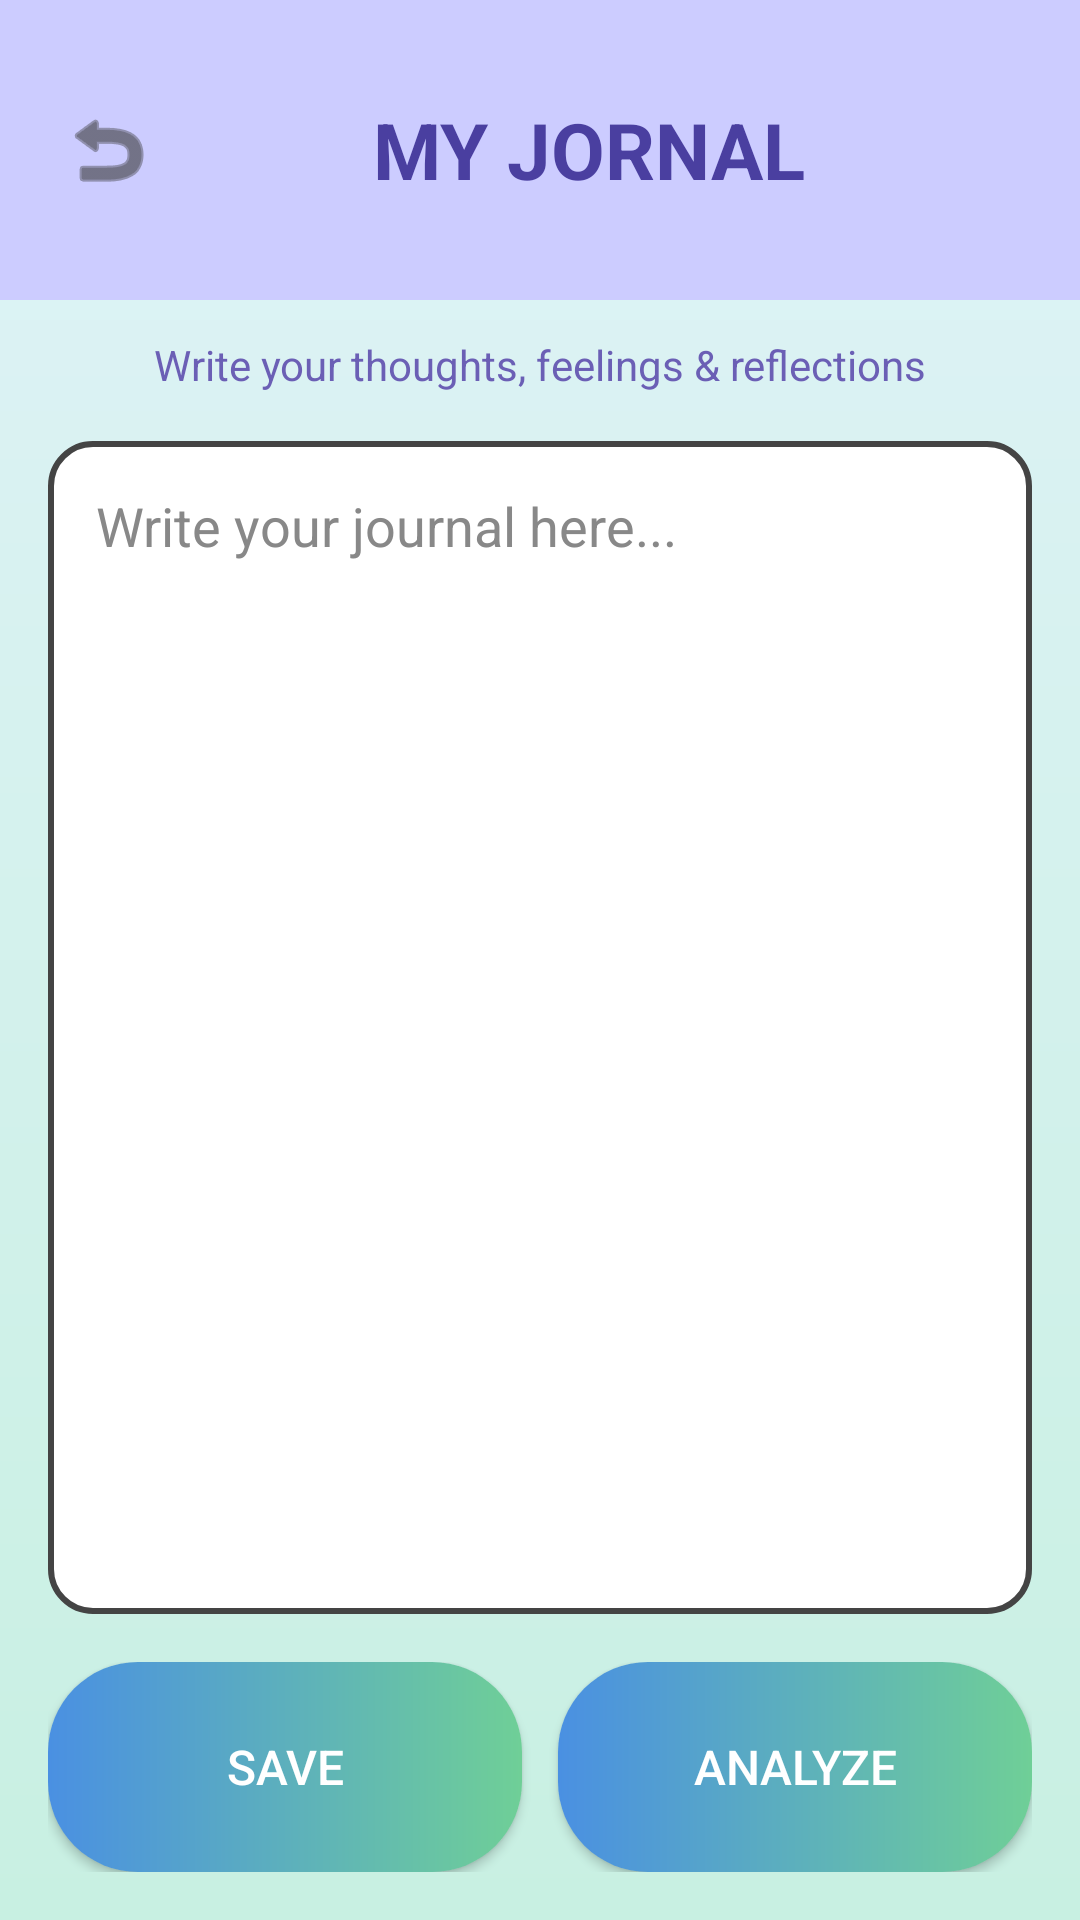

Named icons in this screenshot (1080x1920) and their bounding boxes, (x1, y1, x2, y2):
revert: (75, 119, 144, 182)
